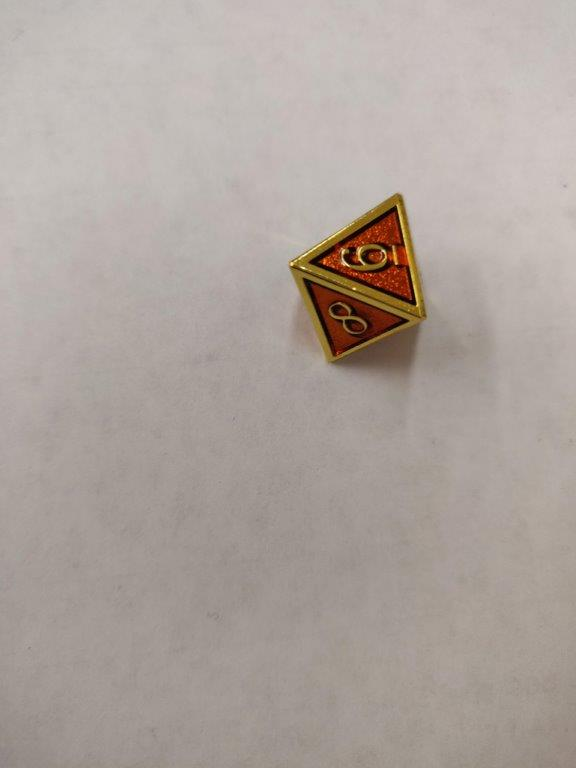d8-6: (288, 191, 427, 364)
